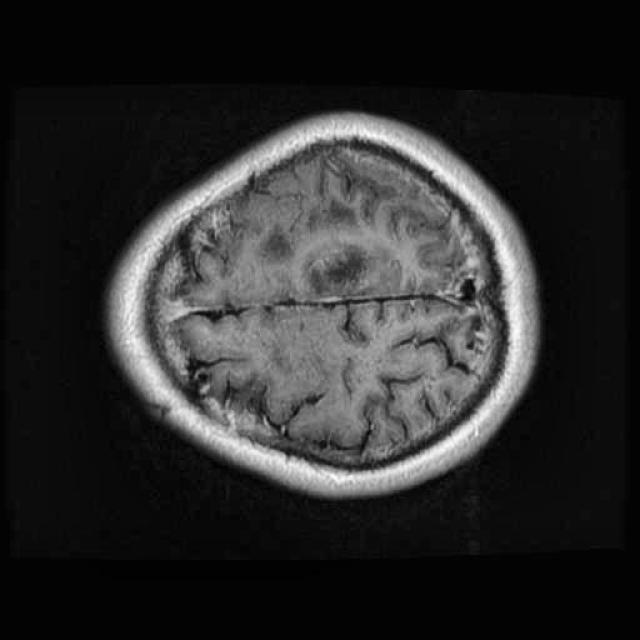Tumor: (294, 224, 388, 310)
